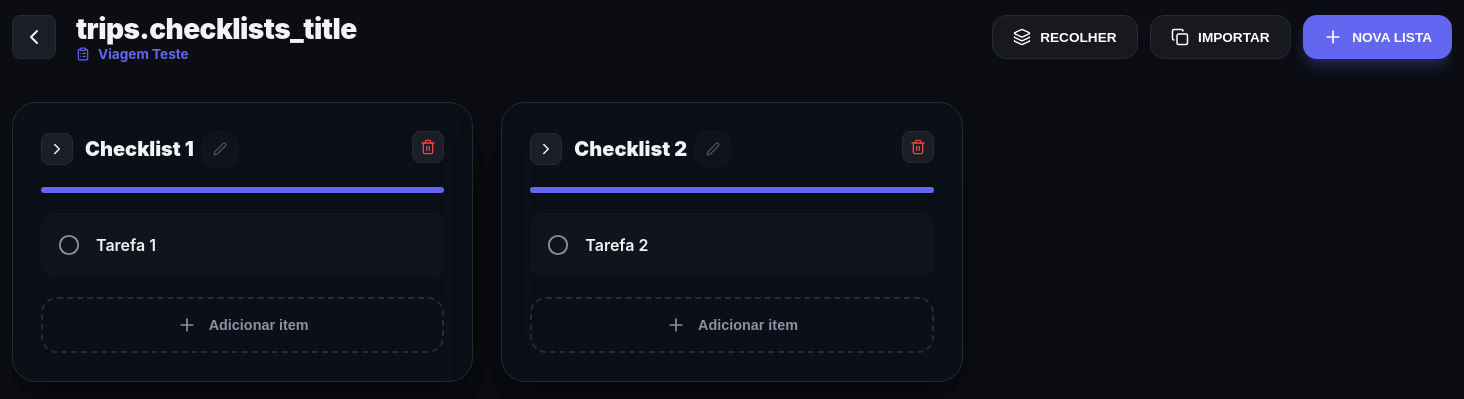
Test: TripChecklists › allows collapsing/expanding all checklists
The width and height of the screenshot is (1464, 399).
Check: the heading "Checklist 1" is shown, box [85,137,194,161]
Check: the text "Tarefa 1" is shown, box [96,235,156,255]
Click the button "RECOLHER". click: click(1065, 37)
box: [992,15,1138,59]
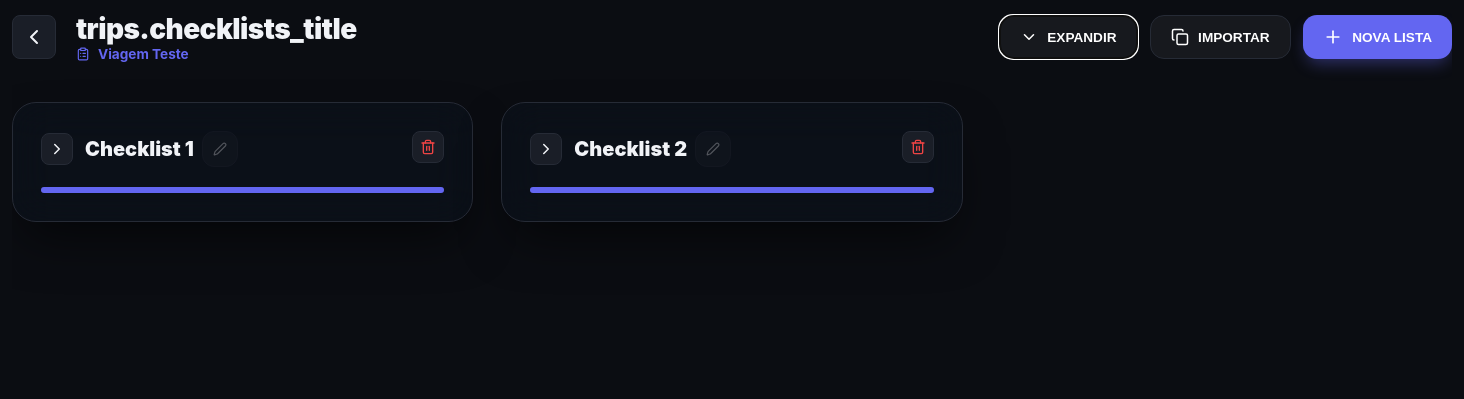
Check: the text "Tarefa 1" is gone
Click the button "EXPANDIR". click: click(1068, 37)
box: [999,15,1138,59]
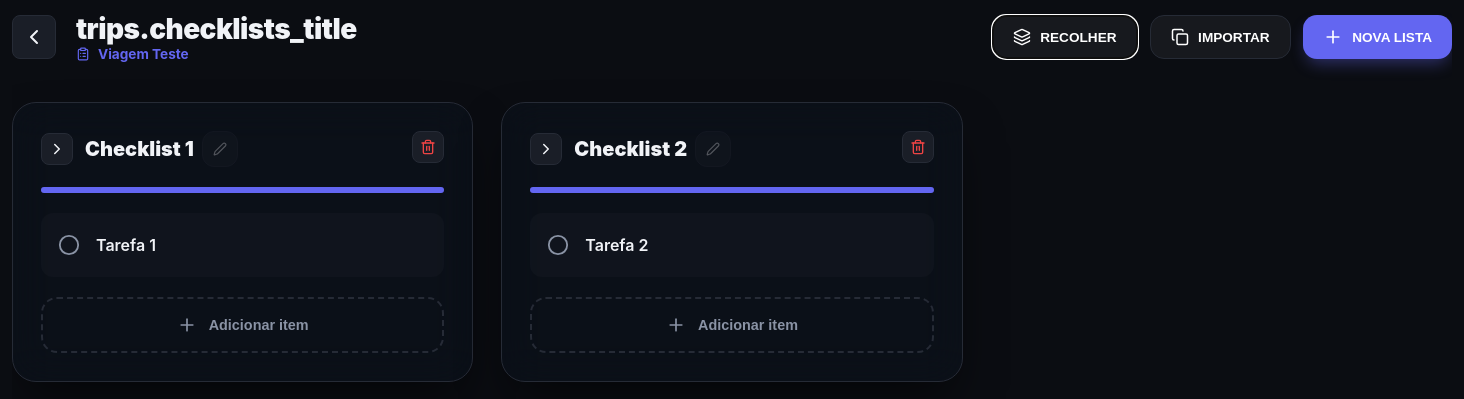
Check: the text "Tarefa 1" is shown, box [96,235,156,255]
